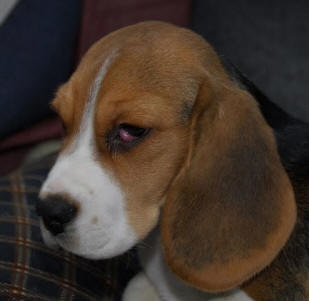dog: (29, 19, 309, 301)
